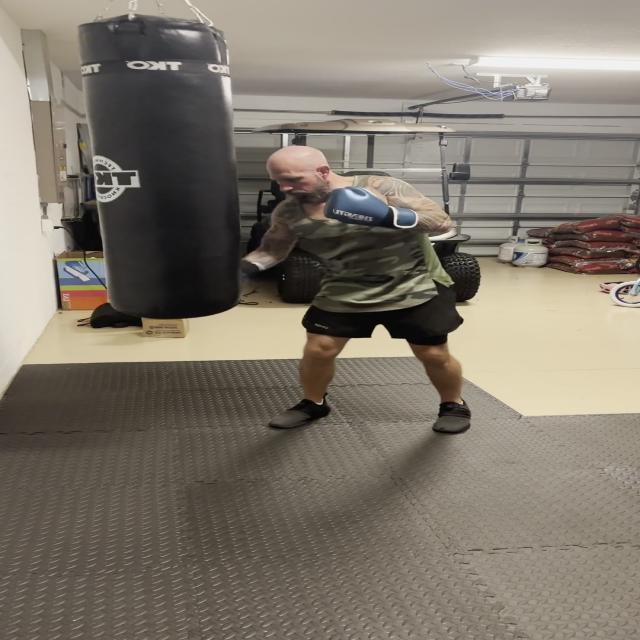bag: (88, 14, 236, 324)
uppercut: (207, 138, 446, 294)
